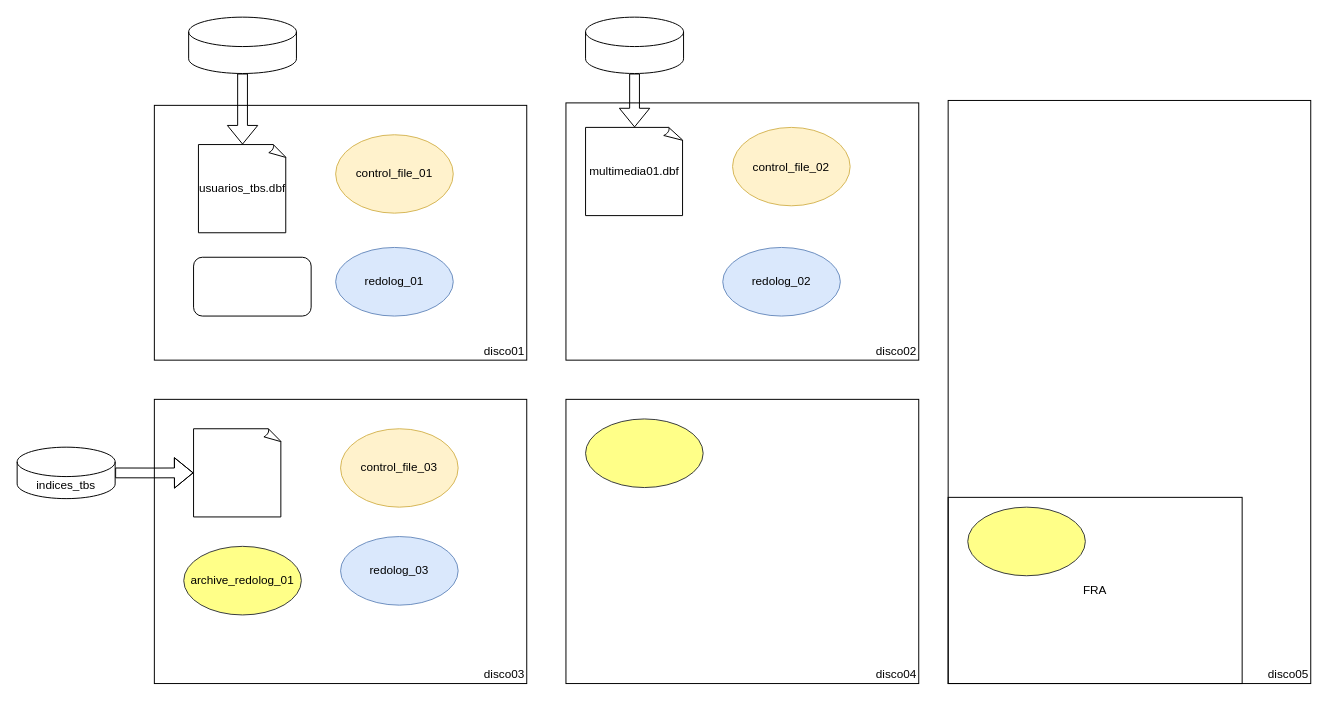
Image size: 1328x701. Some labels were removed from this diagram. Each missing label, with the centre of its shape:
archive_redolog_02: point (644, 453)
archive_redolog_03: point (1026, 541)
archivo_passwords: point (252, 286)
indice_tbs.dbf: point (237, 472)
multimedia_tbs: point (634, 45)
usuarios_tbs: point (242, 45)
